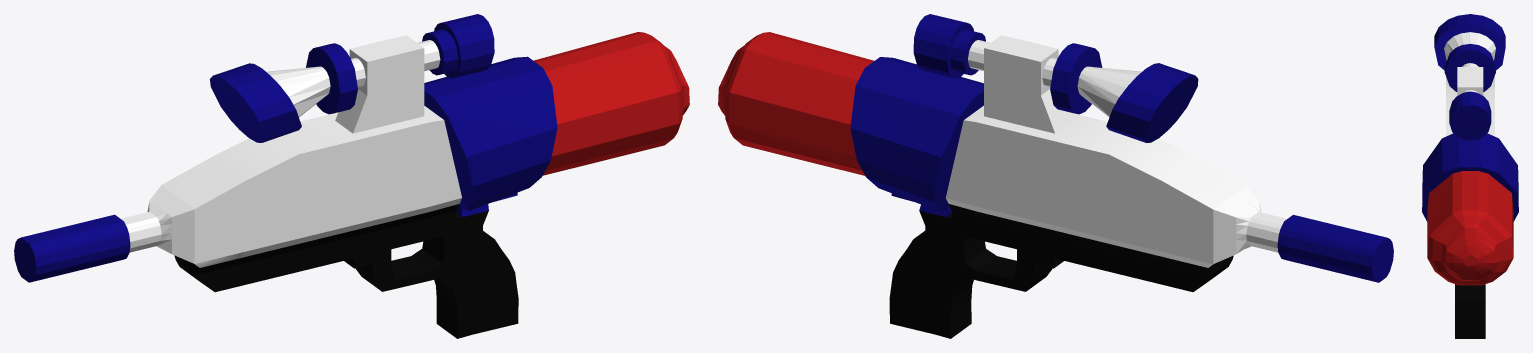
File: Pistola.fbx
3 renders of one model, left to right at view 1: azimuth 30°, elevation 25°; view 2: azimuth 150°, elevation 25°; view 3: azimuth 270°, elevation 25°, orthographic. The views are drawn at different scales.
Visible parts, largest first — view 1: Box001; view 2: Box001; view 3: Box001.
Boxes of the visible parts, x1=… form: Box001: x1=14, y1=14, x2=689, y2=338; Box001: x1=718, y1=14, x2=1393, y2=338; Box001: x1=1422, y1=14, x2=1518, y2=338.
Bounding box in the file's own units: 151 × 68.67 × 26.27.
1 material, 1 textured.
